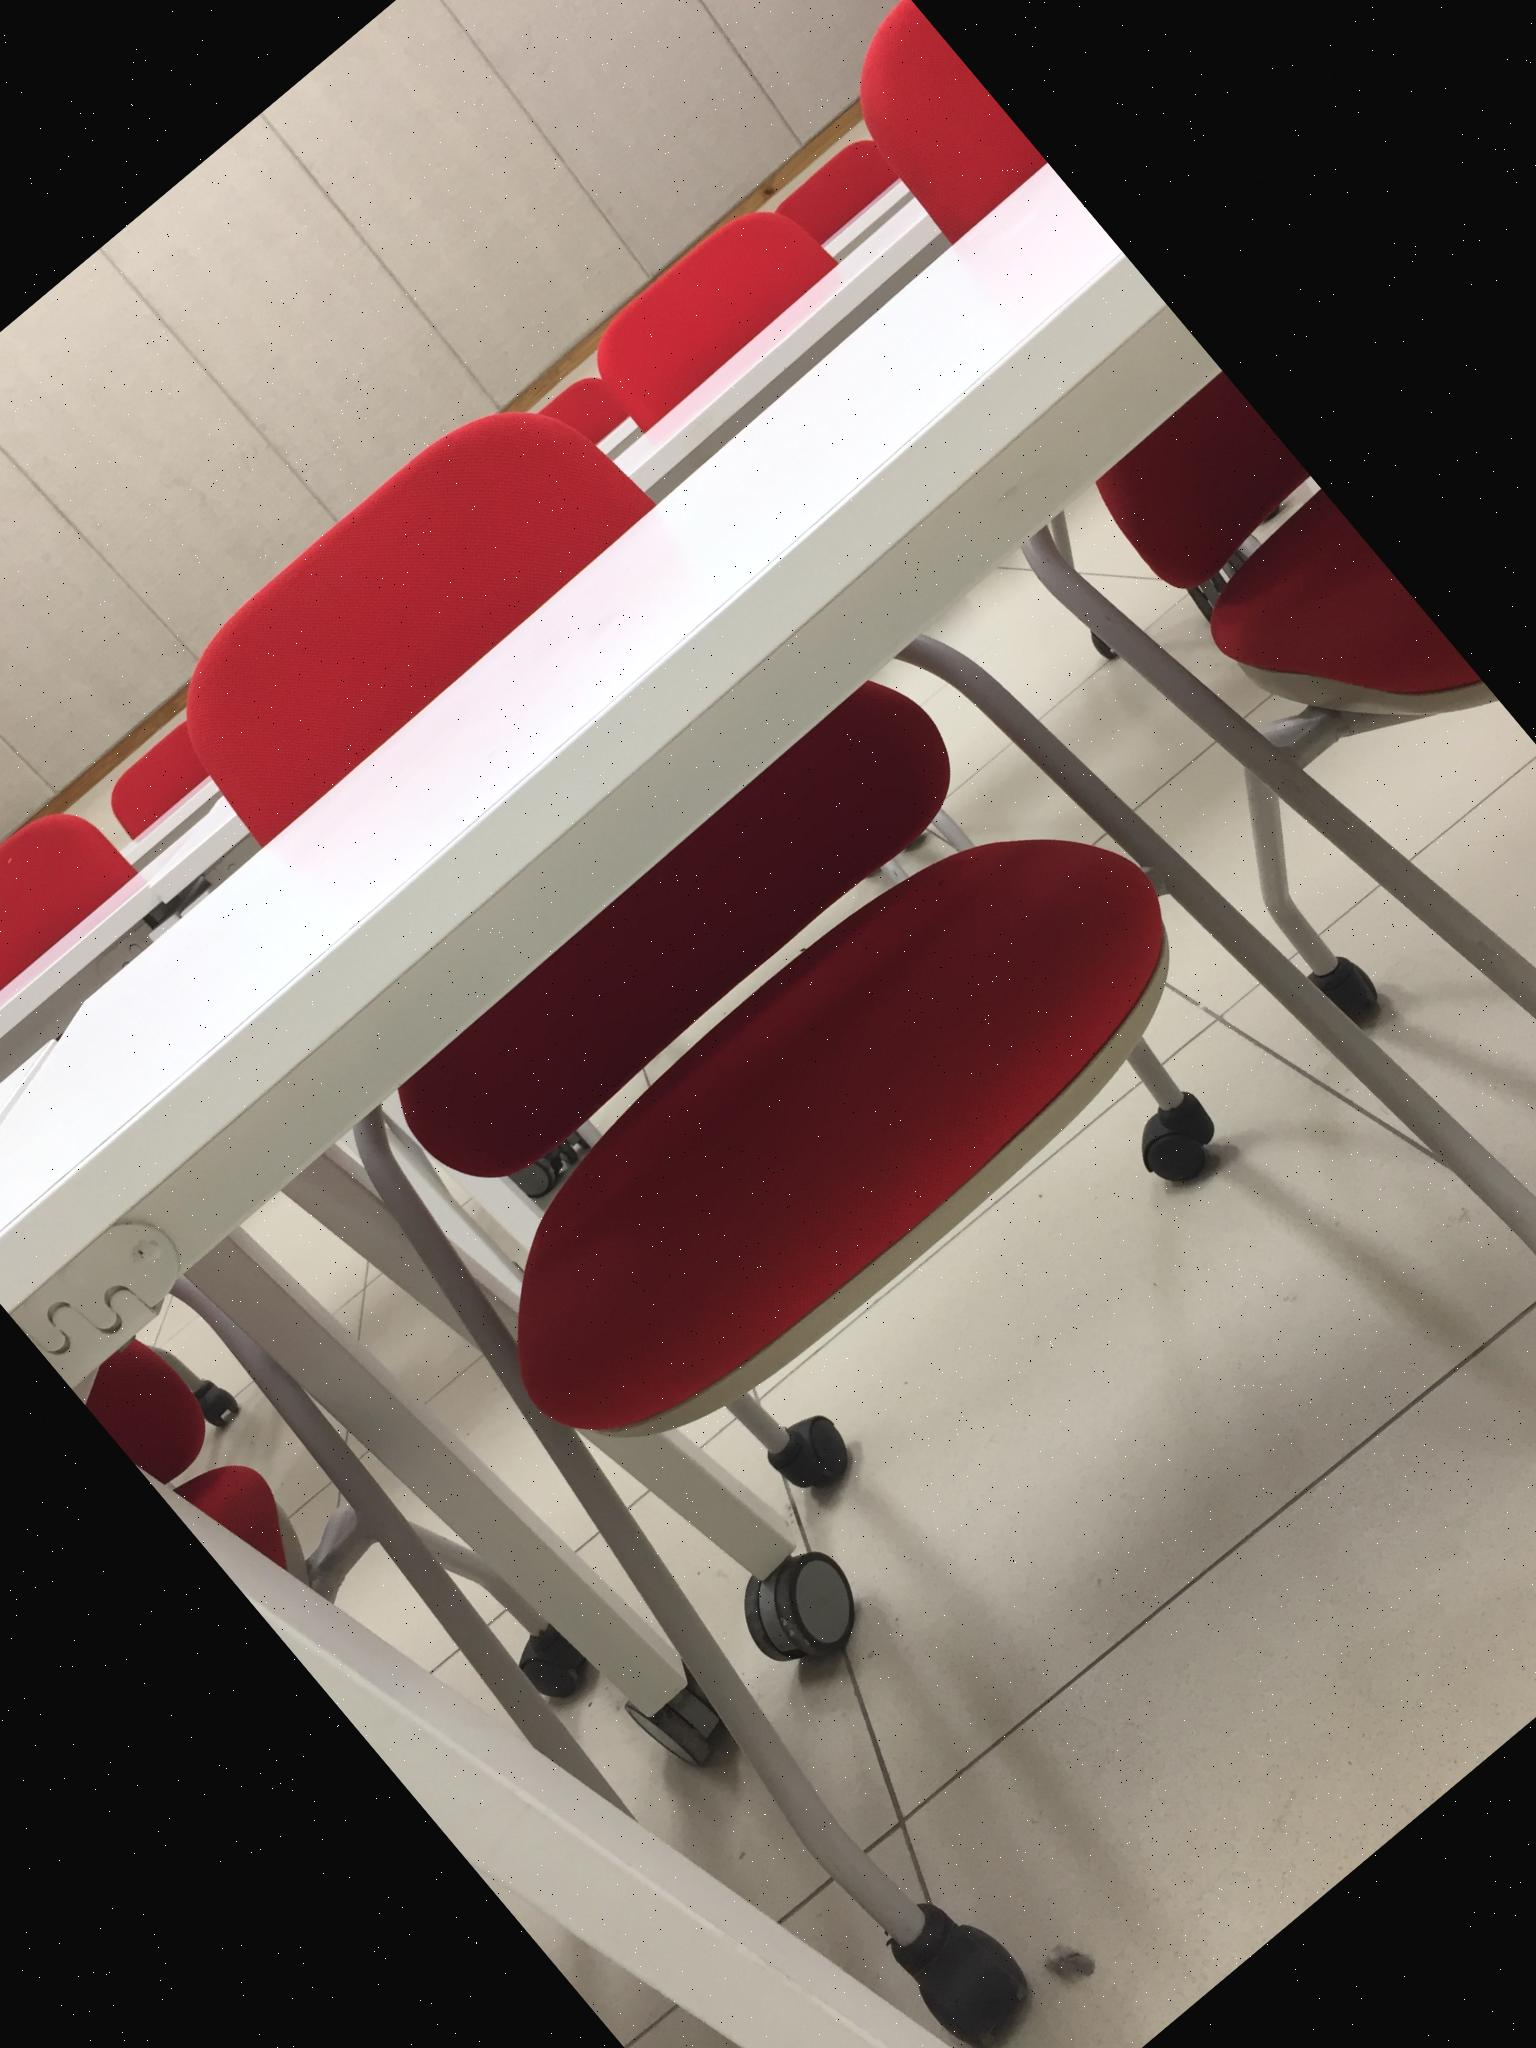chair: (0, 163, 1536, 2048), (1004, 348, 1536, 1427), (58, 1243, 694, 1946), (592, 187, 860, 445), (820, 2, 1046, 239), (0, 792, 124, 1039), (92, 706, 250, 853), (536, 356, 657, 477), (787, 129, 905, 245)
